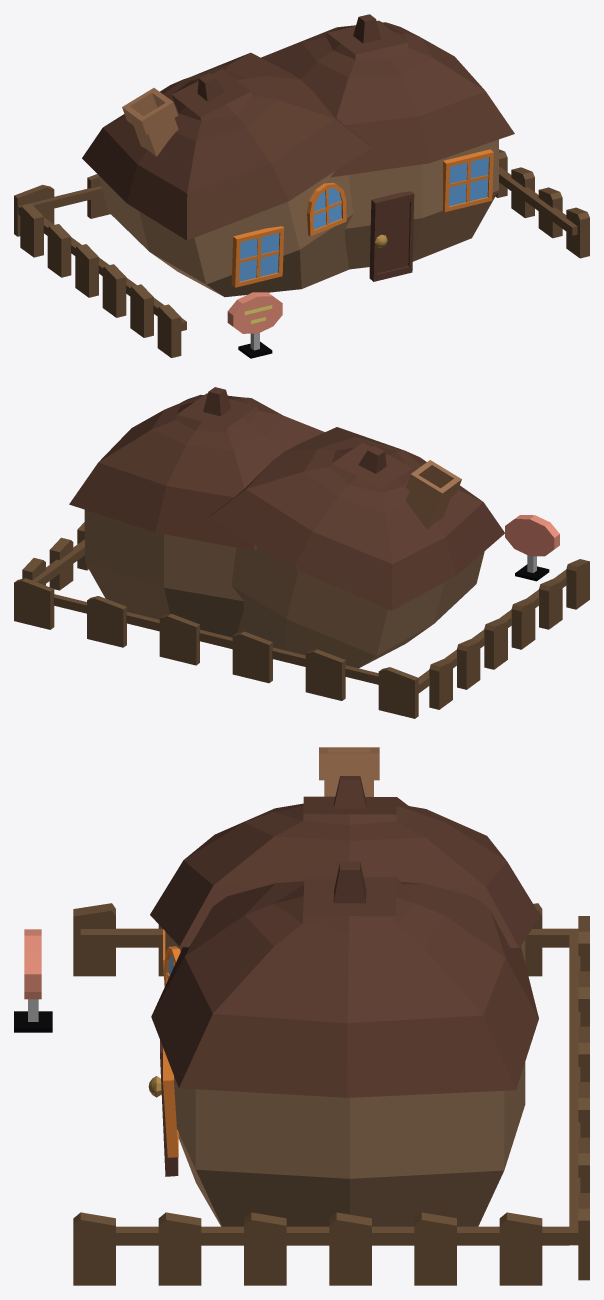
The model's file is dotoli_house2.fbx.
3 views of the same model, one above another, from view 1: azimuth 30°, elevation 25°; view 2: azimuth 150°, elevation 25°; view 3: azimuth 270°, elevation 25° (orthographic). The views are drawn at different scales.
Parts seen in each view (by area): view 1: 도토리머리.002, 울타리.001, 창문네모.002, 창문네모.001, 창문네모.003, 굴뚝.002, 문패.002, 창문둥글.003; view 2: 도토리머리.002, 울타리.001, 굴뚝.002, 문패.002; view 3: 도토리머리.002, 울타리.001, 굴뚝.002, 문패.002, 창문네모.003.
Boxes of the visible parts, left/top/right/bottom form: 도토리머리.002: left=82, top=14, right=514, bottom=297; 울타리.001: left=14, top=149, right=589, bottom=357; 창문네모.002: left=369, top=191, right=414, bottom=281; 창문네모.001: left=231, top=226, right=284, bottom=287; 창문네모.003: left=443, top=149, right=493, bottom=211; 굴뚝.002: left=122, top=88, right=178, bottom=156; 문패.002: left=227, top=292, right=282, bottom=358; 창문둥글.003: left=307, top=182, right=346, bottom=236; 도토리머리.002: left=69, top=387, right=504, bottom=668; 울타리.001: left=14, top=522, right=589, bottom=718; 굴뚝.002: left=405, top=460, right=461, bottom=529; 문패.002: left=505, top=515, right=559, bottom=581; 도토리머리.002: left=150, top=776, right=540, bottom=1226; 울타리.001: left=73, top=903, right=589, bottom=1285; 굴뚝.002: left=319, top=747, right=379, bottom=796; 문패.002: left=14, top=929, right=52, bottom=1032; 창문네모.003: left=163, top=1048, right=178, bottom=1157.
Size of the model in its own units: 1919 by 910 by 1475.
